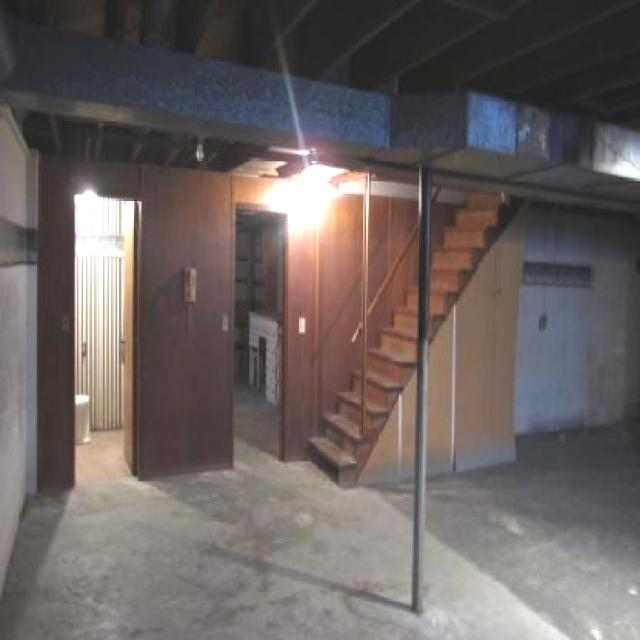stair: (308, 192, 510, 490)
